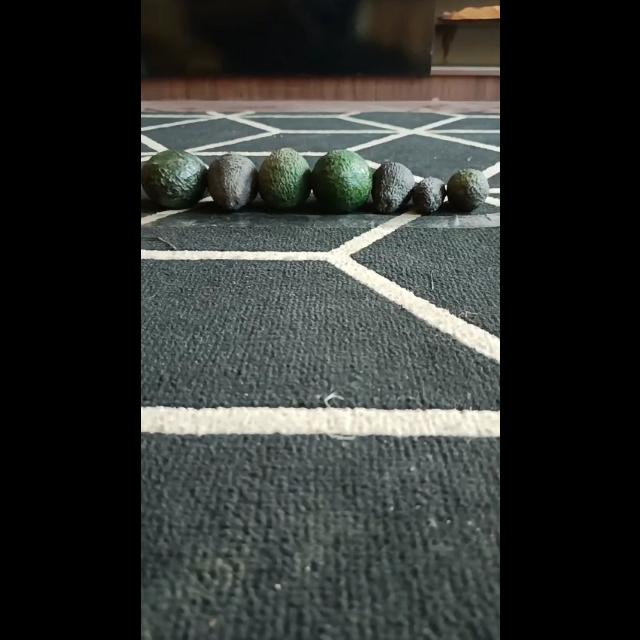Primera: (141, 149, 209, 209), (308, 150, 370, 212), (256, 147, 310, 210), (205, 152, 259, 212)
Segunda: (370, 161, 414, 213), (445, 168, 489, 212)
Tercera: (413, 176, 447, 214)
